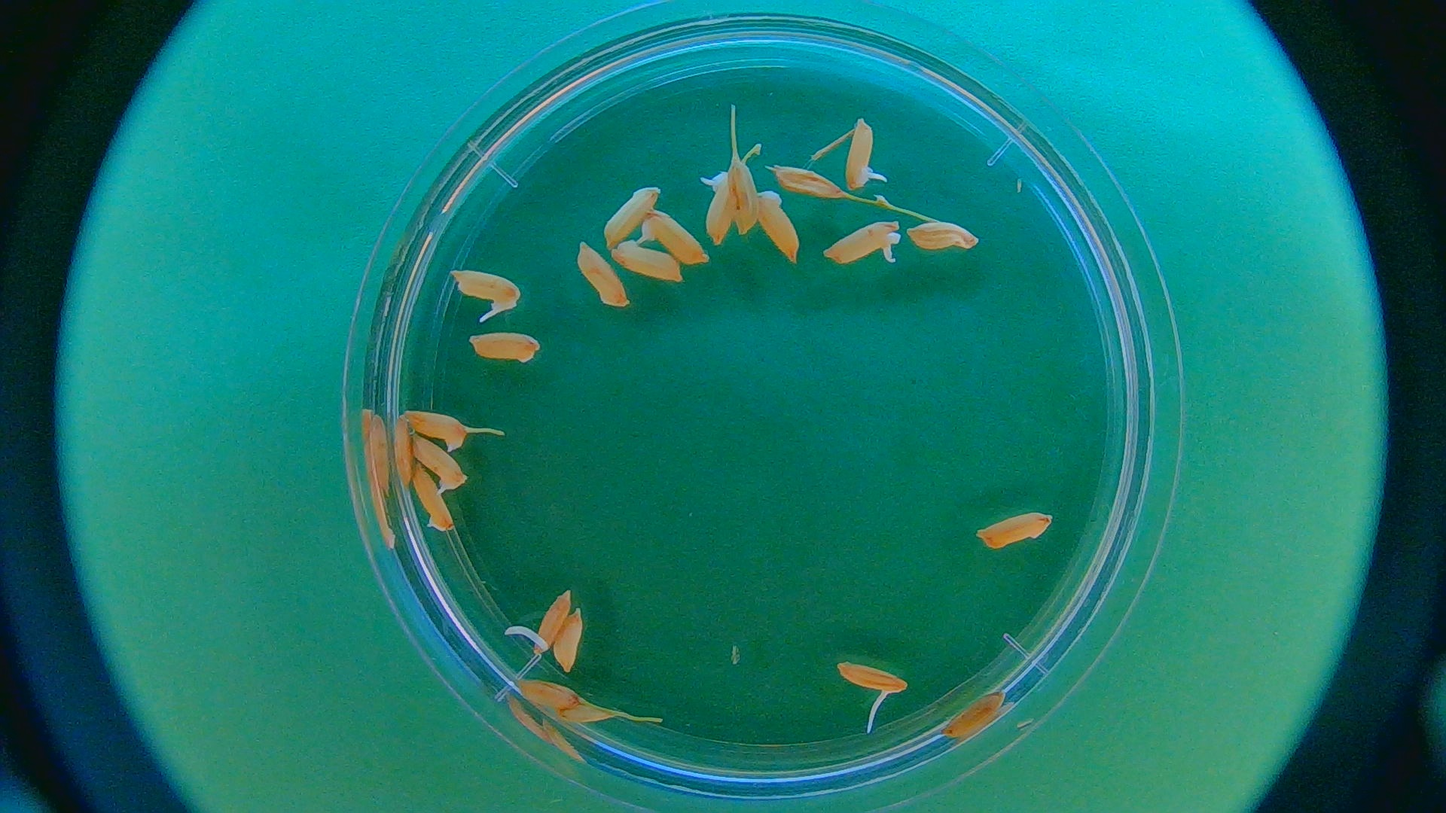no: (935, 674, 1010, 748), (599, 181, 664, 250), (576, 240, 630, 309), (754, 187, 801, 260), (903, 215, 979, 254), (614, 245, 684, 286), (774, 163, 847, 201), (978, 511, 1052, 548), (407, 412, 474, 452), (724, 159, 758, 235), (414, 470, 455, 532), (467, 331, 544, 364), (520, 678, 582, 711), (559, 697, 621, 729), (555, 605, 584, 666), (390, 416, 414, 488)
yes: (641, 206, 714, 268), (413, 437, 474, 506), (823, 222, 898, 268), (450, 269, 525, 312), (844, 114, 882, 196), (532, 592, 573, 655), (839, 662, 909, 698), (703, 170, 737, 244)
